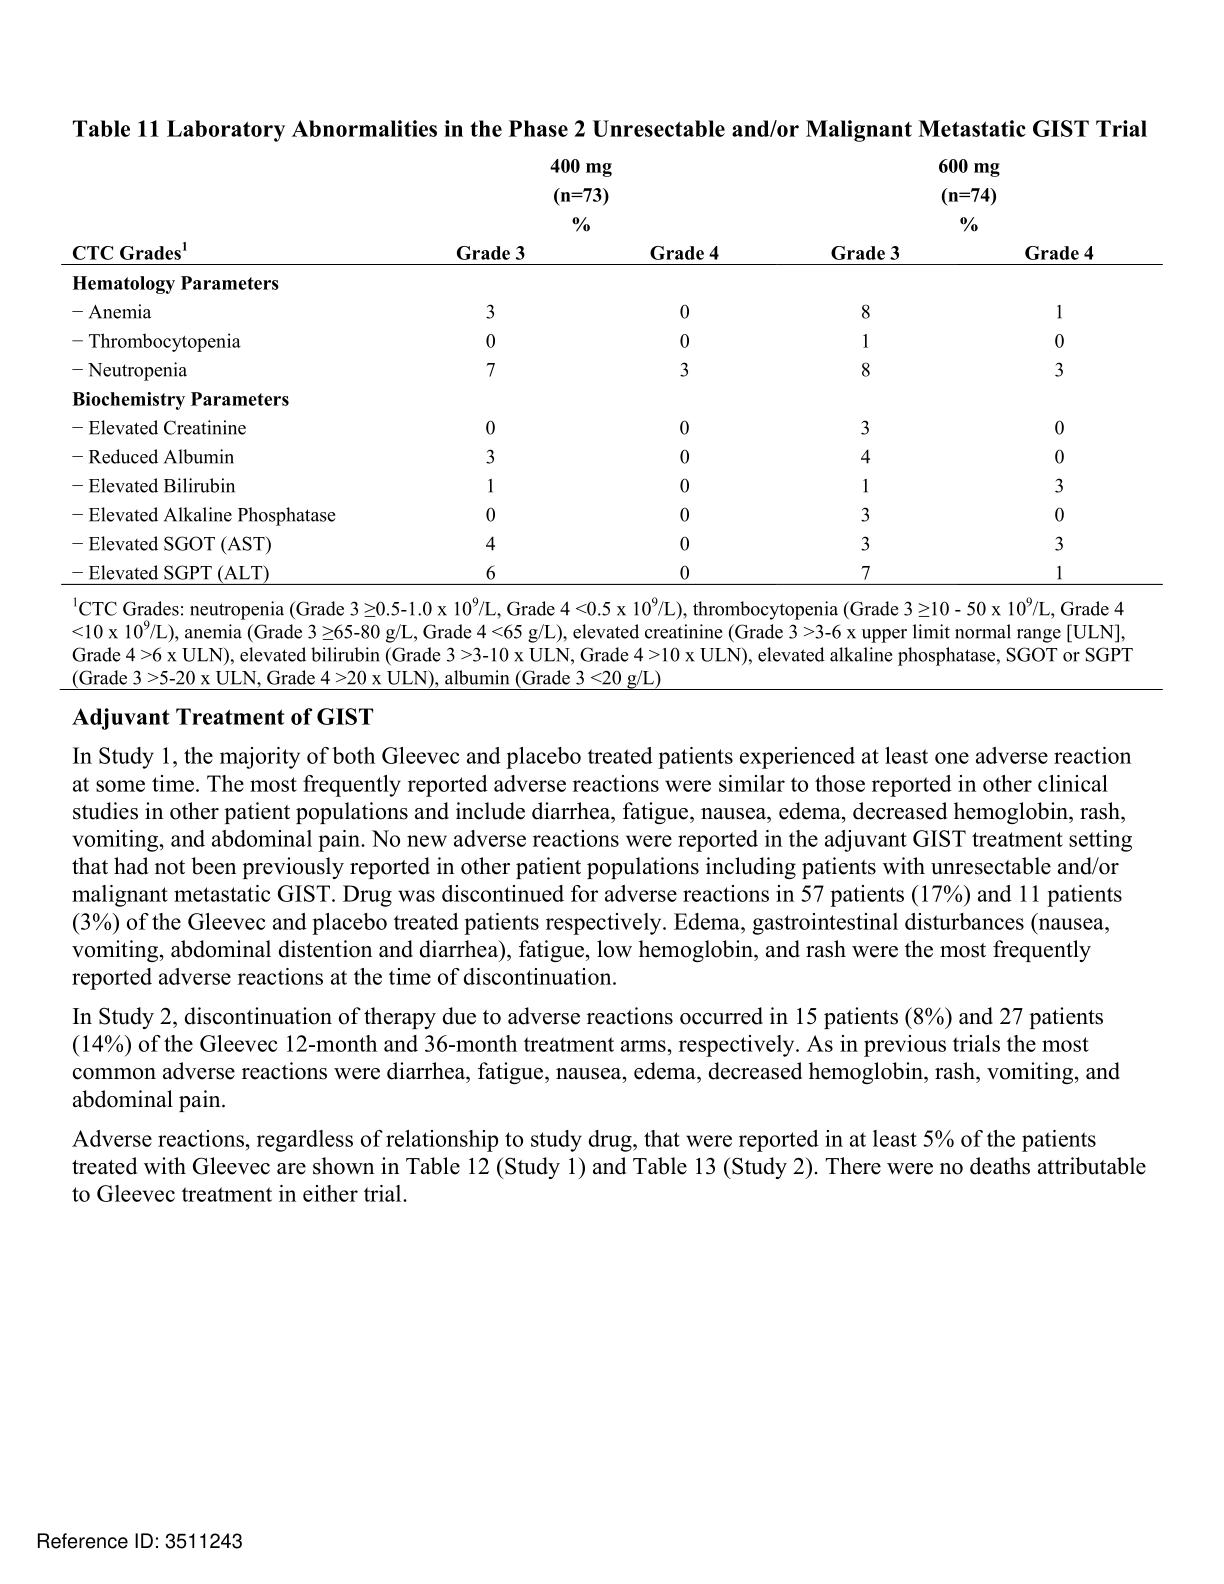partial_lined_merged_cells: (59, 154, 1164, 586)
